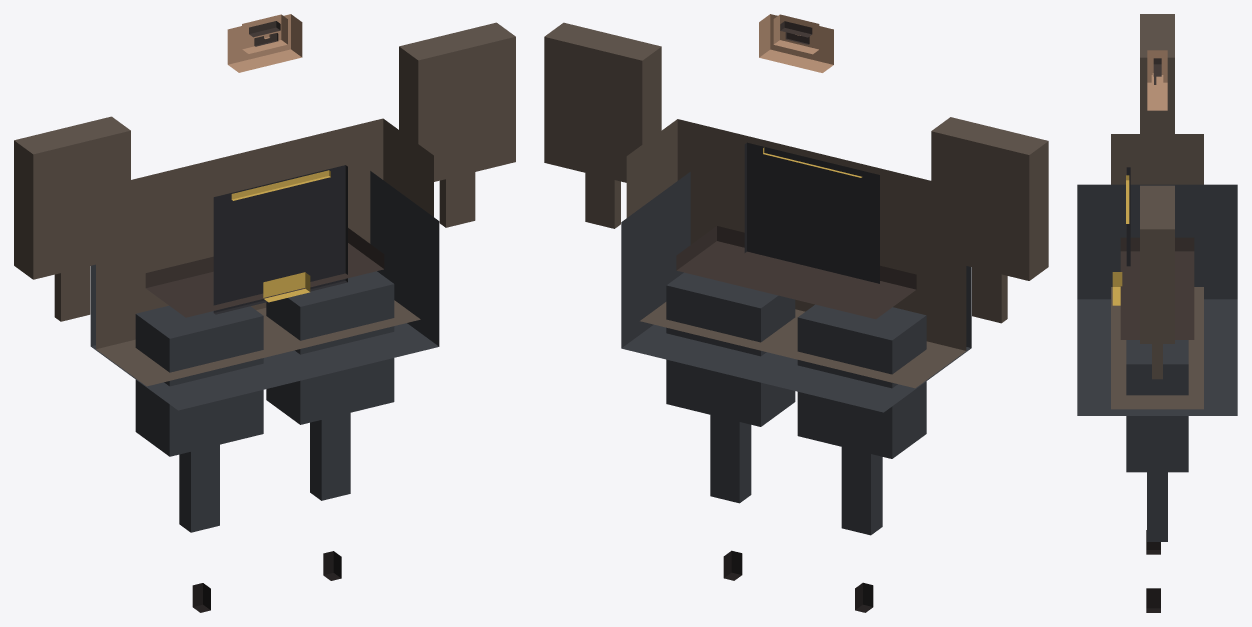
Rendered from reis_rauf_game_rig_v1.glb.
The picture shows the model from 3 angles, left to right: view 1: azimuth 30°, elevation 25°; view 2: azimuth 150°, elevation 25°; view 3: azimuth 270°, elevation 25°; orthographic projection. The views are drawn at different scales.
Visible parts, largest first — view 1: Spine, ShoulderL, ShoulderR, Pelvis, ShirtFront, HipL, HipR, Belt, KneeR, KneeL, Neck, ElbowL (+4 smaller); view 2: Spine, ShoulderL, Pelvis, ShoulderR, ShirtFront, HipL, HipR, Belt, KneeL, KneeR, Neck, ElbowL (+2 smaller); view 3: Pelvis, Spine, HipR, ShoulderR, ShoulderL, Belt, KneeR, Neck, HeadMesh, ElbowR, FootR, ShirtFront (+1 smaller).
Part boxes in pixels (x1,y1,x2,y2): Spine: (96,118,433,386); ShoulderL: (14,116,130,279); ShoulderR: (399,22,515,185); Pelvis: (90,171,439,410); ShirtFront: (213,165,347,314); HipL: (135,305,263,456); HipR: (266,271,394,424); Belt: (145,228,384,317); KneeR: (310,413,350,500); KneeL: (179,444,219,532); Neck: (227,14,302,72); ElbowL: (54,266,90,321); Spine: (626,119,966,388); ShoulderL: (931,117,1048,280); Pelvis: (621,172,971,412); ShoulderR: (544,22,661,182); ShirtFront: (744,142,879,283); HipL: (797,304,926,458); HipR: (666,272,795,426); Belt: (676,226,916,319); KneeL: (841,447,882,535); KneeR: (710,415,751,503); Neck: (759,14,833,72); ElbowL: (972,267,1007,323); Pelvis: (1077,184,1237,415); Spine: (1111,134,1203,409); HipR: (1126,340,1188,472); ShoulderR: (1140,185,1174,343); ShoulderL: (1140,14,1174,172); Belt: (1120,237,1194,339); KneeR: (1147,472,1167,541); Neck: (1147,50,1167,110); HeadMesh: (1151,51,1163,92); ElbowR: (1152,344,1162,379); FootR: (1146,588,1160,612); ShirtFront: (1126,167,1130,266).
Bounding box in the file's own units: 1.37 × 1.54 × 0.43.
